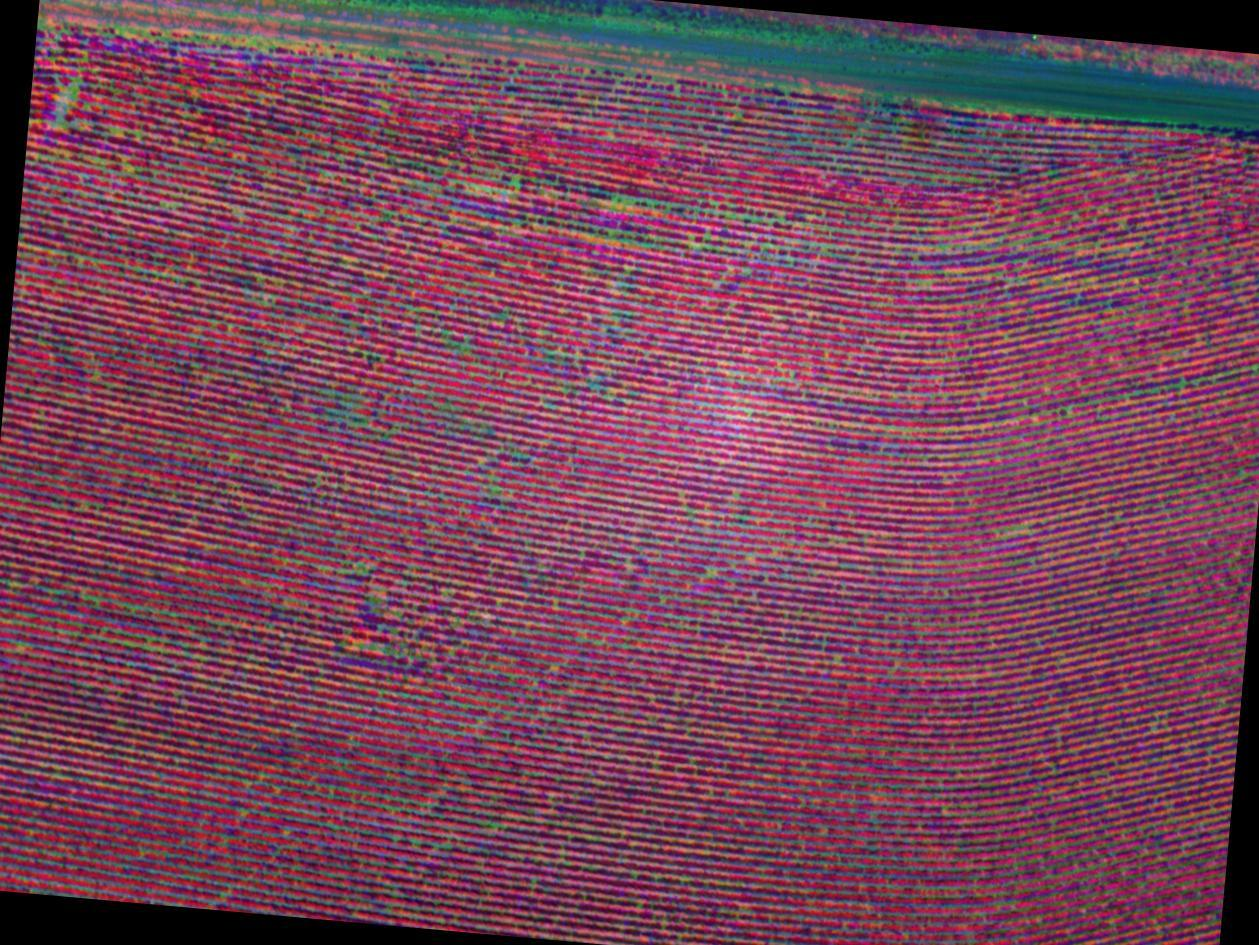dc: (576, 181, 747, 254), (28, 27, 124, 141), (459, 136, 556, 241), (306, 360, 402, 462)
